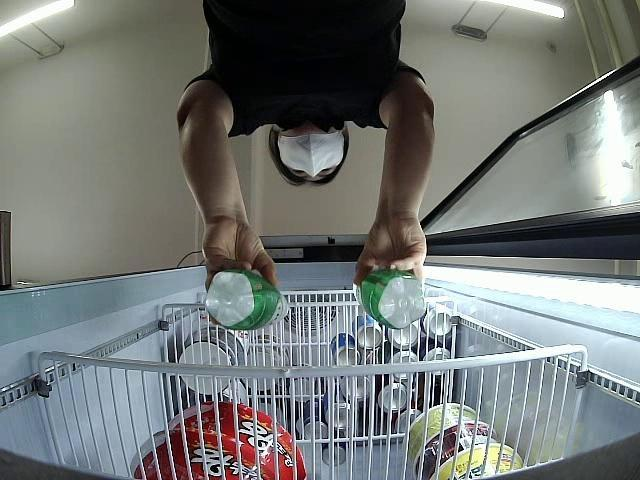18_trevi: (203, 268, 287, 332), (359, 270, 430, 329)
